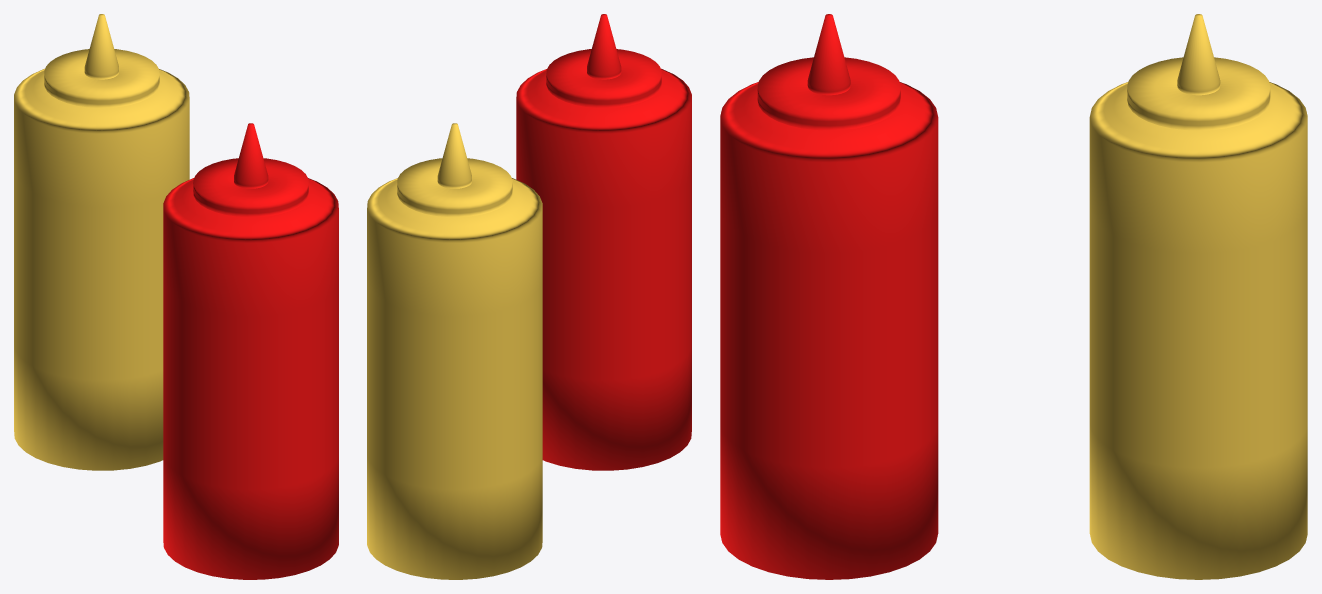
Rendered from Bottles.fbx.
The picture shows the model from 3 angles, left to right: view 1: azimuth 30°, elevation 25°; view 2: azimuth 150°, elevation 25°; view 3: azimuth 270°, elevation 25°; orthographic projection. The views are drawn at different scales.
Visible parts, largest first — view 1: Circle, Circle.001; view 2: Circle.001, Circle; view 3: Circle, Circle.001.
Boxes of the visible parts, bbox=[...] form: Circle: bbox=[163, 123, 338, 579]; Circle.001: bbox=[14, 14, 189, 470]; Circle.001: bbox=[367, 123, 542, 579]; Circle: bbox=[516, 14, 691, 470]; Circle: bbox=[720, 14, 938, 579]; Circle.001: bbox=[1089, 14, 1307, 579].
Bounding box in the file's own units: 200 × 525 × 539.
